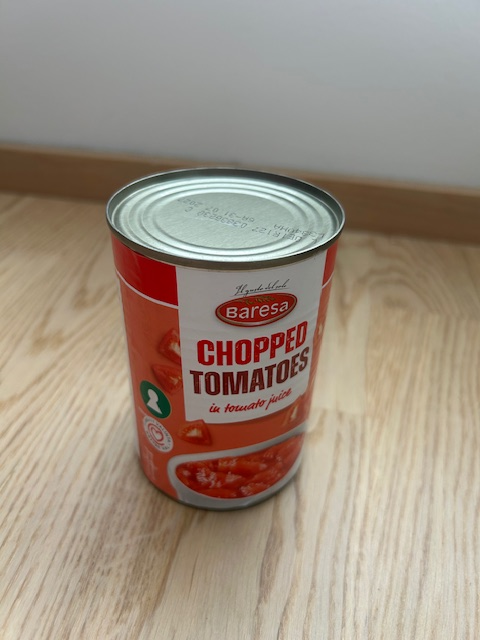Konservburk: (106, 166, 347, 512)
